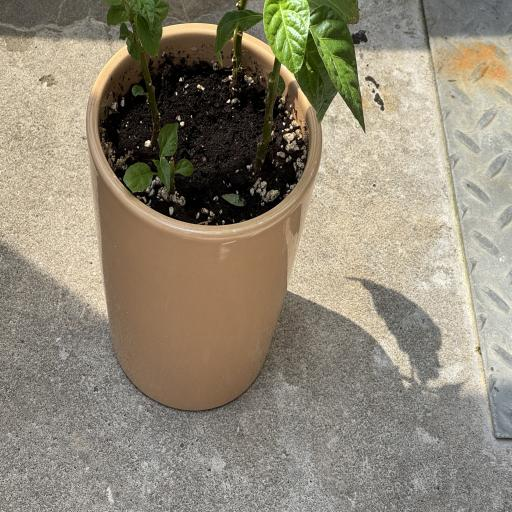Plant Pot: (88, 21, 321, 410)
